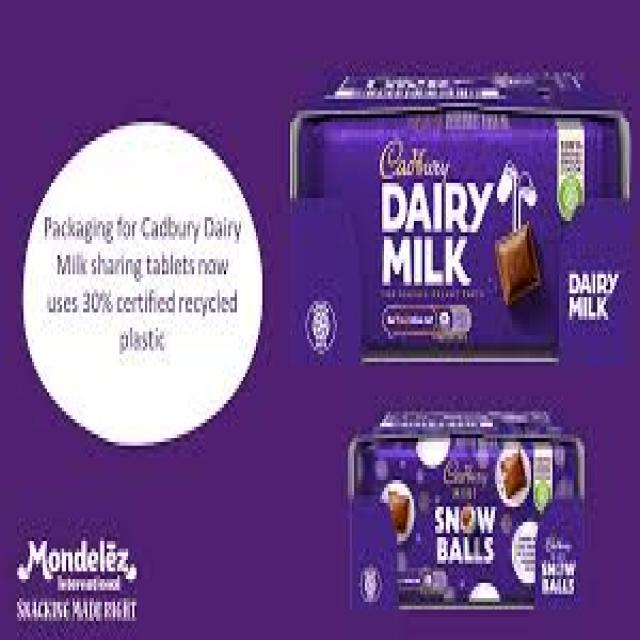cadbury: (297, 124, 621, 368), (355, 438, 580, 606)
